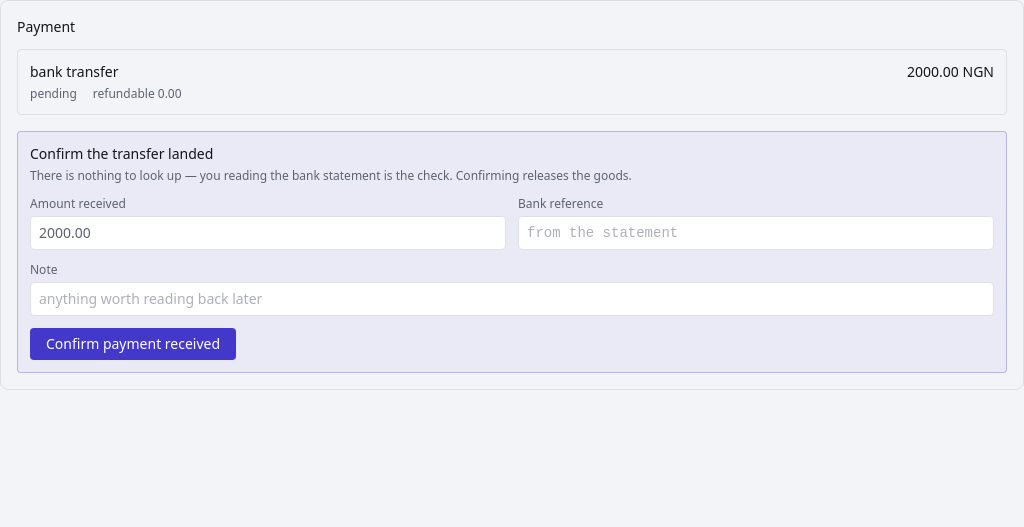
it: PaymentPanel › names what a duplicate-reference override risks
Type "REF1" into the field labelled "Bank reference".
click(756, 233); type("REF1")  # box [518,216,994,250]
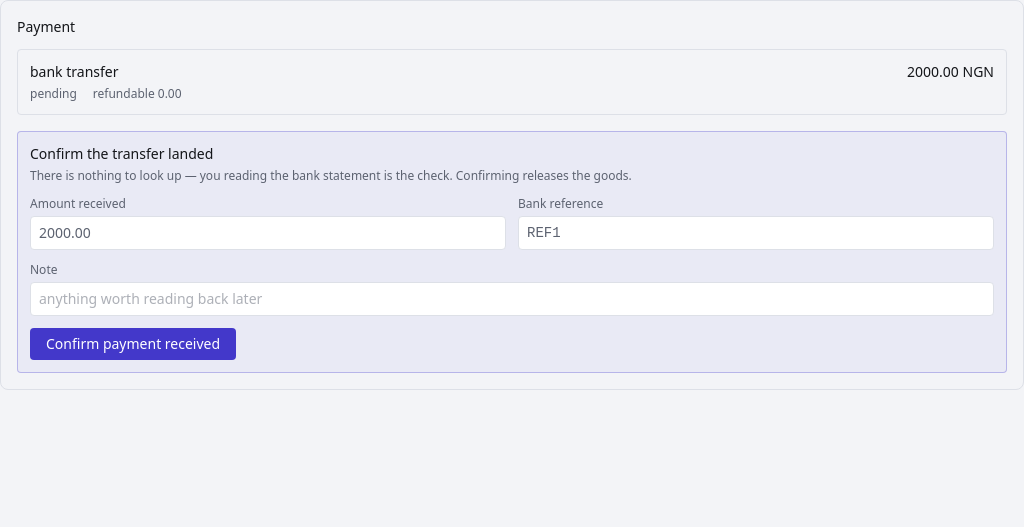
Click the button "Confirm payment received".
click(133, 344)  # box [30,328,236,360]
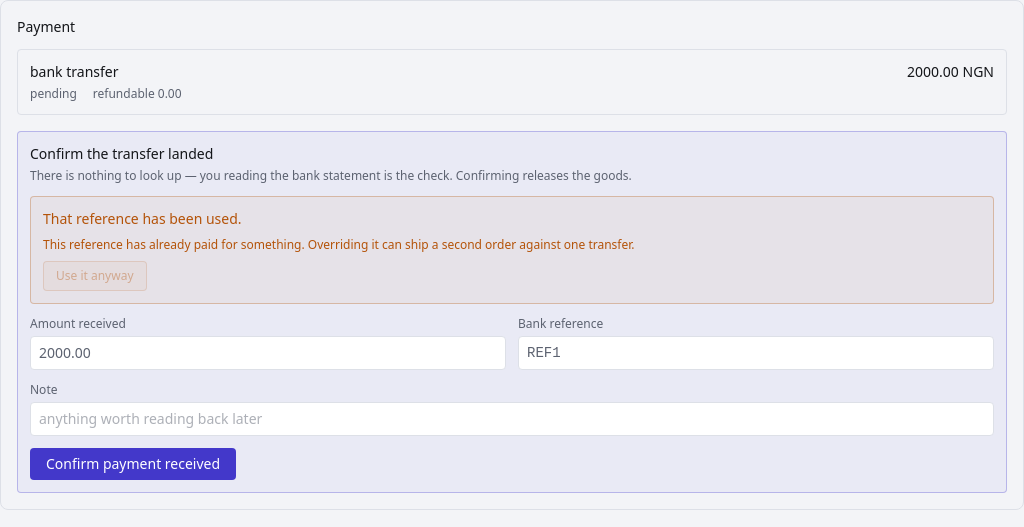
Now the text "ship a second order against one transfer" is shown, box [43,236,634,253]
